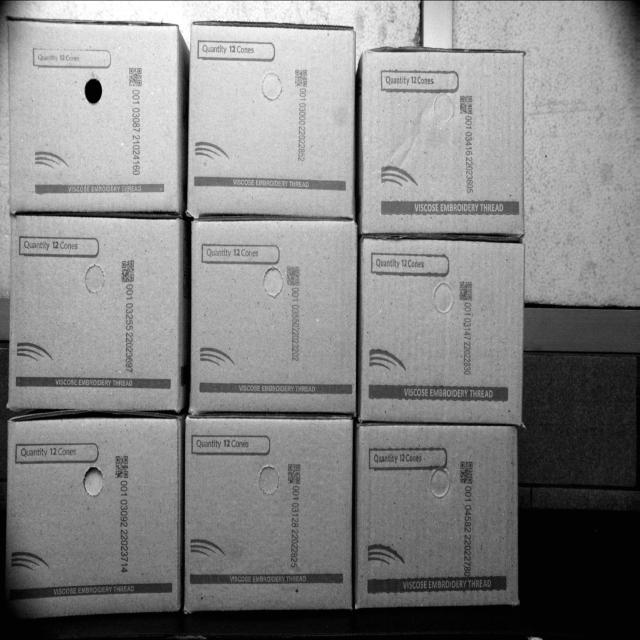cardboxes: (8, 412, 186, 620), (8, 212, 180, 412), (9, 11, 180, 211), (190, 214, 356, 419), (184, 412, 352, 612), (362, 42, 526, 244), (193, 23, 359, 222), (360, 237, 524, 427), (359, 425, 521, 606), (396, 580, 397, 589)
